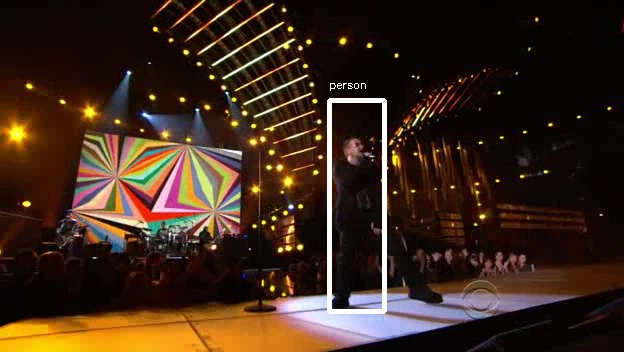person: (335, 137, 396, 248), (332, 137, 393, 248), (338, 137, 399, 248), (335, 134, 396, 245), (335, 140, 396, 251)
target_negative: (178, 207, 402, 338), (458, 200, 592, 251), (503, 206, 519, 235), (319, 302, 389, 308), (598, 200, 622, 208)
